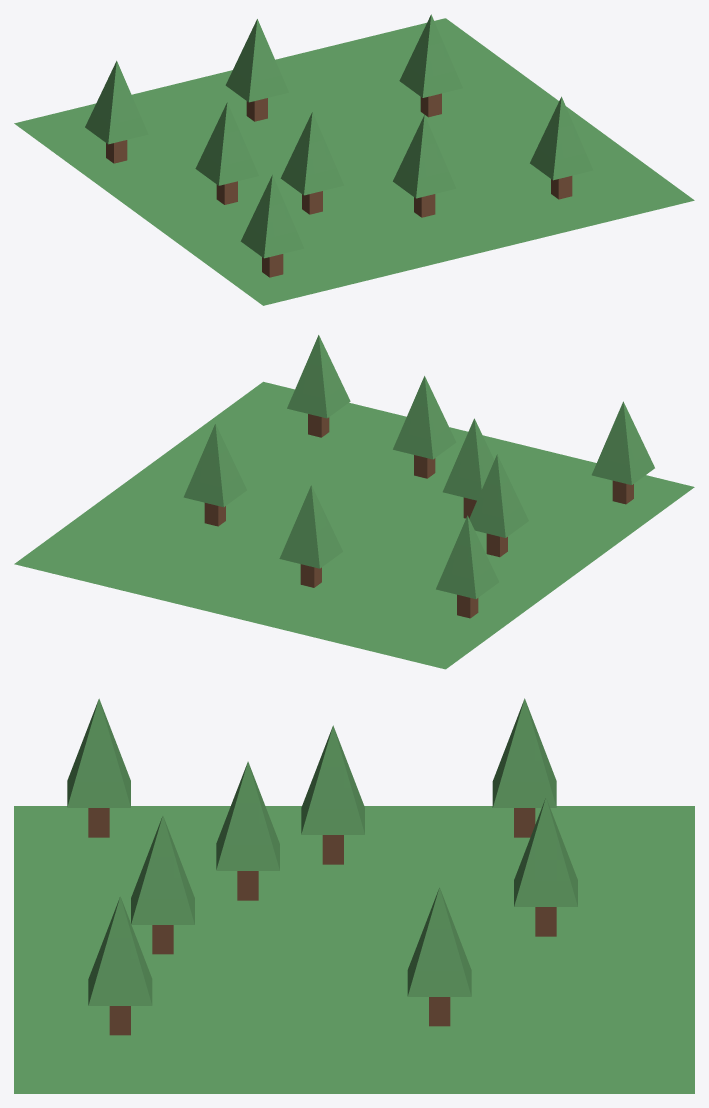
Rendered from outofbounds.gltf.
3 views of the same model, one above another, from view 1: azimuth 30°, elevation 25°; view 2: azimuth 150°, elevation 25°; view 3: azimuth 270°, elevation 25° (orthographic). The views are drawn at different scales.
Visible parts, largest first — view 1: Base[delete], pyramid (×8); view 2: Base[delete], pyramid (×8); view 3: Base[delete], pyramid (×8), cube (×8).
Boxes of the visible parts, x1=… form: Base[delete]: x1=14, y1=18, x2=694, y2=305; pyramid (×8): x1=85, y1=14, x2=593, y2=258; Base[delete]: x1=14, y1=381, x2=694, y2=669; pyramid (×8): x1=183, y1=335, x2=654, y2=598; Base[delete]: x1=14, y1=806, x2=694, y2=1093; pyramid (×8): x1=67, y1=698, x2=577, y2=1005; cube (×8): x1=88, y1=808, x2=556, y2=1035.
Size of the model in its own units: 2 by 0.4375 by 2.
1 material, 1 textured.
